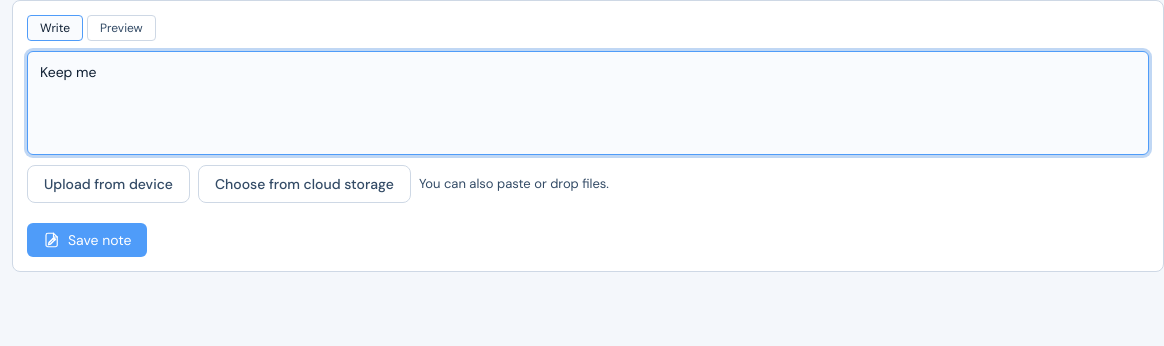
NoteComposer save recovery › preserves the draft when the caller reports an unsuccessful save
This screenshot has width=1164, height=346.
Click the button "Save note" at (87, 240), box [27,223,148,257]
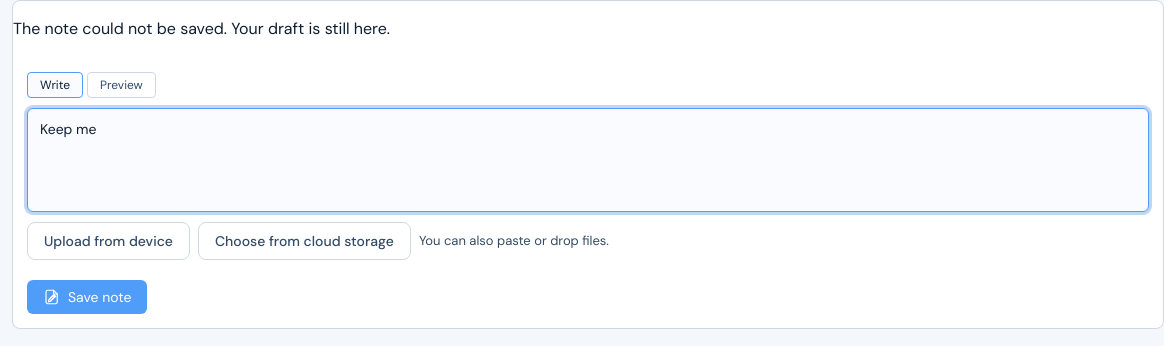
Check: the text box holds "Keep me", box [27,108,1149,212]
Check: the message "The note could not be saved. Your draft is still here." is shown, box [13,18,390,39]
